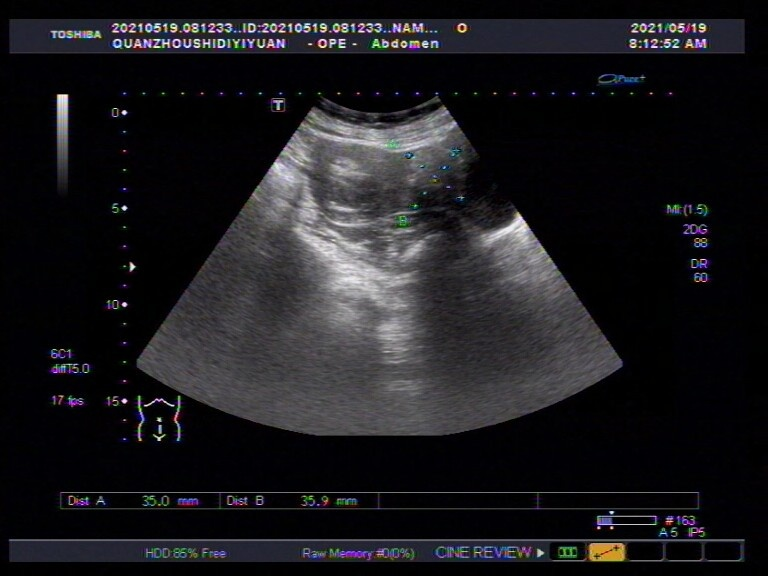肌瘤: (398, 154, 462, 219)
